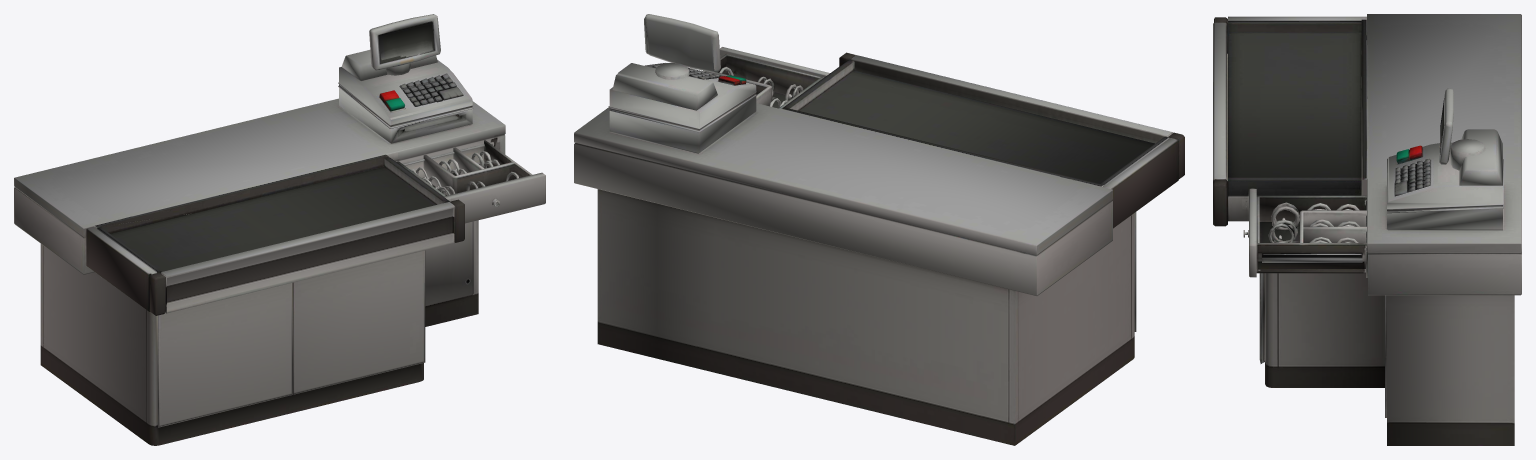
Rendered from cash_register.glb.
The picture shows the model from 3 angles, left to right: view 1: azimuth 30°, elevation 25°; view 2: azimuth 150°, elevation 25°; view 3: azimuth 270°, elevation 25°; orthographic projection. The views are drawn at different scales.
Parts seen in each view (by area): view 1: tripo_node_49fe8fa4-89c8-4e7e-97d1-e74432d72889_0; view 2: tripo_node_49fe8fa4-89c8-4e7e-97d1-e74432d72889_0; view 3: tripo_node_49fe8fa4-89c8-4e7e-97d1-e74432d72889_0.
Boxes of the visible parts, left/top/right/bottom form: tripo_node_49fe8fa4-89c8-4e7e-97d1-e74432d72889_0: left=14, top=14, right=545, bottom=445; tripo_node_49fe8fa4-89c8-4e7e-97d1-e74432d72889_0: left=574, top=14, right=1184, bottom=445; tripo_node_49fe8fa4-89c8-4e7e-97d1-e74432d72889_0: left=1213, top=14, right=1521, bottom=445.
Bounding box in the file's own units: 0.998 × 0.6426 × 0.5684.
1 material, 1 textured.
